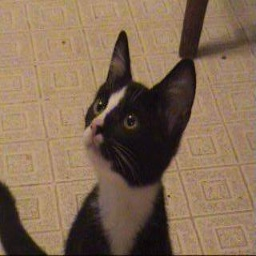cat: (57, 30, 197, 256)
